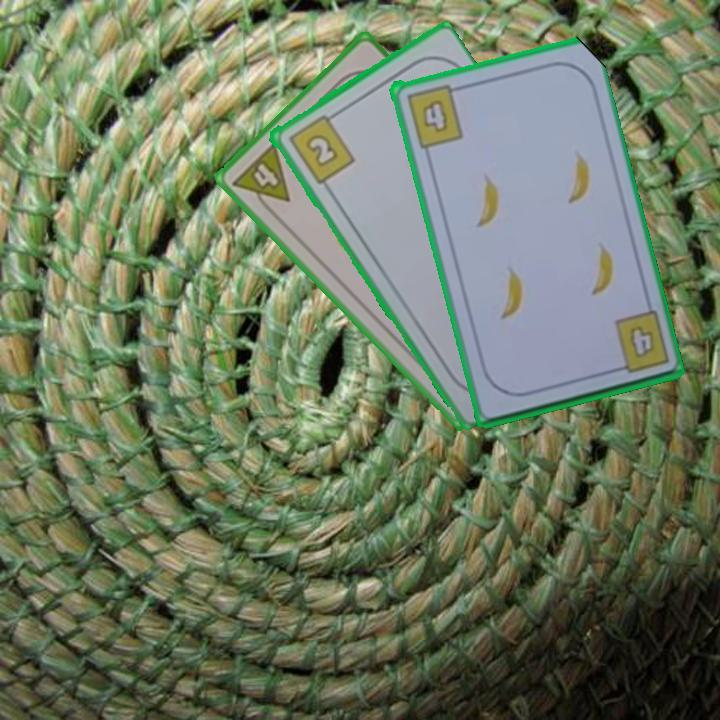2b: (284, 109, 357, 187)
4b: (402, 80, 465, 150), (625, 321, 657, 361)
4p: (229, 138, 293, 219)
